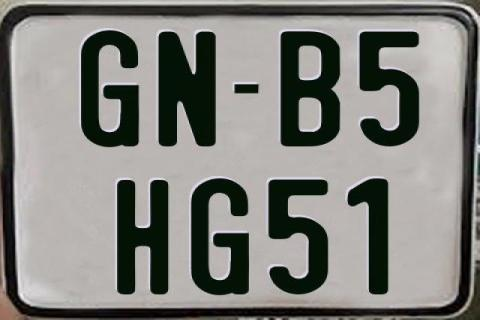0: (268, 177, 330, 296), (358, 30, 419, 146), (346, 178, 392, 298)
B: (280, 31, 339, 148)
G: (80, 31, 144, 151), (189, 177, 249, 295)
H: (115, 179, 172, 297)
N: (156, 29, 218, 145)
